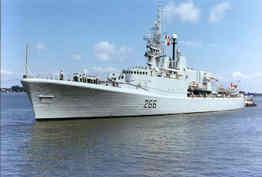warship: (19, 13, 246, 119)
